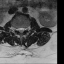CCS_normal: (20, 25, 22, 35)
LFS_normal: (24, 25, 27, 32)
LLS_normal: (22, 25, 24, 34)
RFS_normal: (15, 25, 17, 33)
RLS_normal: (17, 25, 20, 33)
